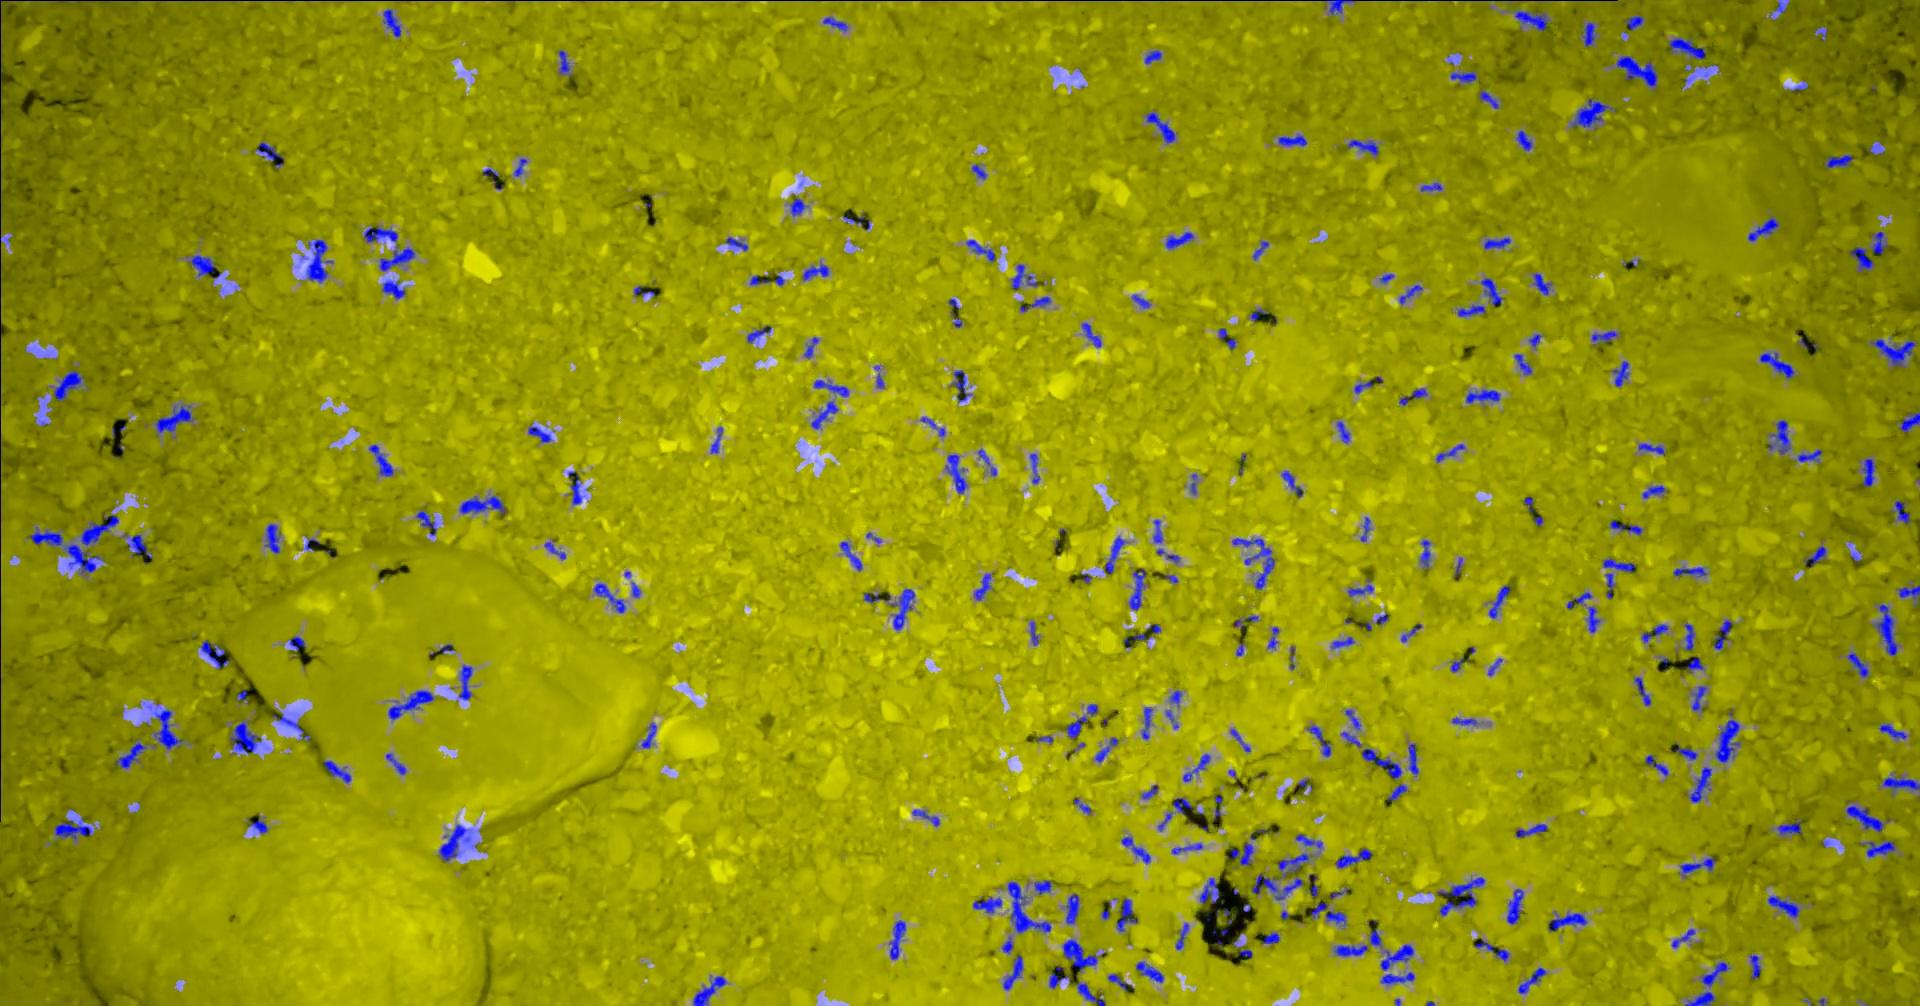ant: (29, 527, 103, 573), (363, 226, 414, 271), (1006, 882, 1050, 932), (1230, 537, 1274, 589), (1436, 876, 1484, 915), (1251, 873, 1303, 901), (1615, 55, 1657, 88), (1380, 944, 1415, 983), (387, 690, 433, 719), (1869, 338, 1916, 366), (1571, 98, 1611, 130), (152, 708, 183, 749), (1361, 748, 1401, 779), (438, 824, 470, 861), (80, 514, 118, 545), (1874, 605, 1897, 655), (1716, 711, 1738, 762), (1065, 702, 1097, 738), (1062, 939, 1097, 970), (306, 239, 331, 282), (229, 720, 262, 753), (155, 404, 193, 432), (272, 713, 310, 741), (1845, 805, 1883, 831), (692, 976, 725, 1005), (891, 588, 914, 629), (1145, 112, 1175, 144), (593, 583, 625, 612), (1759, 352, 1793, 379), (945, 453, 968, 493), (53, 370, 83, 400), (55, 817, 91, 840), (458, 495, 505, 513), (114, 742, 145, 768), (1669, 37, 1705, 58), (1768, 419, 1790, 453), (1310, 901, 1345, 923), (201, 640, 229, 668), (1182, 753, 1210, 781), (1121, 836, 1150, 862), (1548, 911, 1586, 931), (1689, 766, 1710, 801), (1747, 217, 1779, 241), (368, 445, 392, 476), (1103, 536, 1124, 573), (255, 141, 283, 168), (1128, 568, 1145, 610), (1517, 967, 1545, 993), (1514, 9, 1548, 30), (1474, 939, 1509, 960), (1002, 954, 1022, 989), (1488, 586, 1510, 619), (1277, 854, 1310, 875), (810, 401, 837, 428), (1305, 727, 1330, 756), (1076, 981, 1105, 1005), (1335, 848, 1371, 868), (1768, 895, 1799, 917), (1011, 263, 1037, 288), (1677, 856, 1716, 874), (1702, 962, 1730, 986), (1116, 898, 1137, 931), (889, 920, 905, 959), (323, 760, 350, 782), (1225, 842, 1253, 865), (813, 379, 848, 396), (1859, 840, 1895, 857), (965, 239, 994, 260), (1848, 246, 1873, 271), (952, 370, 971, 401), (1481, 277, 1502, 305), (841, 541, 861, 570), (1506, 888, 1523, 923), (127, 533, 151, 558), (189, 254, 216, 276), (1135, 962, 1163, 982), (1435, 443, 1464, 462), (1095, 737, 1117, 761), (1281, 470, 1303, 495), (1846, 652, 1868, 677), (1713, 619, 1731, 649), (1199, 876, 1219, 903), (1346, 138, 1378, 155), (1398, 387, 1427, 405), (971, 895, 1001, 913), (1882, 776, 1919, 790), (1641, 622, 1667, 641), (1164, 231, 1192, 249), (415, 511, 436, 535), (1018, 296, 1050, 311), (919, 417, 945, 436), (1609, 520, 1641, 535), (1633, 676, 1650, 705), (1465, 389, 1500, 403), (458, 664, 472, 699), (382, 9, 400, 36), (973, 573, 990, 600), (1229, 728, 1250, 751), (1644, 754, 1667, 775), (568, 471, 582, 504), (1603, 558, 1636, 572), (1878, 723, 1906, 739), (910, 809, 938, 826), (1398, 285, 1422, 304), (1081, 323, 1100, 347), (264, 523, 279, 553), (1515, 823, 1547, 837), (1684, 991, 1716, 1005), (801, 263, 828, 279), (1611, 359, 1628, 386), (483, 168, 503, 189), (1048, 967, 1068, 988), (382, 279, 405, 298), (1217, 326, 1236, 349), (1671, 929, 1694, 948), (1333, 944, 1368, 956), (745, 325, 771, 342), (1347, 579, 1373, 596), (1566, 592, 1591, 608), (1107, 973, 1133, 989), (1804, 545, 1825, 565), (385, 753, 405, 774), (1399, 622, 1421, 641), (1326, 0, 1355, 14), (1892, 500, 1910, 523), (1674, 742, 1697, 760), (527, 426, 551, 442), (1862, 459, 1876, 486), (1123, 633, 1150, 647), (1478, 89, 1498, 108), (1898, 412, 1919, 431), (1898, 586, 1919, 605), (641, 721, 657, 747), (1065, 893, 1078, 923), (543, 541, 565, 559), (1407, 743, 1418, 776), (1295, 833, 1322, 847), (1387, 782, 1406, 801), (1171, 842, 1203, 854), (1533, 273, 1550, 293), (1514, 353, 1531, 373), (1870, 231, 1887, 253), (822, 17, 847, 30), (1277, 133, 1305, 146), (1823, 154, 1851, 166), (1457, 304, 1484, 316), (710, 426, 723, 453), (1232, 615, 1257, 629), (1691, 685, 1705, 710), (1777, 821, 1802, 835), (1175, 923, 1189, 949), (789, 197, 808, 215), (1642, 484, 1666, 498), (1252, 240, 1269, 260), (1142, 706, 1152, 739), (1343, 709, 1360, 729), (1172, 796, 1192, 813), (1418, 539, 1430, 567), (1072, 796, 1090, 814), (1684, 655, 1703, 672), (1516, 130, 1531, 150), (1340, 730, 1360, 746), (1582, 22, 1595, 46), (1797, 448, 1821, 461), (1483, 236, 1510, 248), (1587, 606, 1599, 633), (804, 337, 818, 358), (1029, 453, 1039, 483), (1672, 567, 1705, 575), (557, 50, 570, 72), (1450, 71, 1476, 83), (1591, 330, 1617, 342), (248, 818, 267, 833), (1684, 622, 1694, 650), (1749, 954, 1760, 978), (725, 238, 747, 250), (1336, 420, 1349, 442), (1034, 879, 1051, 894), (1250, 307, 1269, 321), (1331, 636, 1354, 648), (1638, 443, 1663, 453), (1360, 516, 1370, 541), (1604, 573, 1614, 598), (1625, 15, 1643, 29), (1131, 293, 1149, 307), (1450, 657, 1468, 671), (513, 158, 526, 177), (1451, 716, 1478, 725), (1267, 626, 1277, 649), (1308, 874, 1318, 897), (1144, 50, 1161, 64), (290, 635, 303, 652), (1354, 380, 1371, 392), (1369, 929, 1382, 946), (632, 285, 654, 295), (1029, 621, 1037, 645), (971, 163, 985, 178), (1142, 784, 1157, 798), (874, 365, 883, 387), (1153, 520, 1162, 542), (1170, 690, 1181, 708), (1420, 182, 1441, 191), (749, 276, 770, 285), (1261, 932, 1279, 942), (1815, 25, 1827, 39), (1001, 937, 1012, 953), (863, 592, 879, 602)
